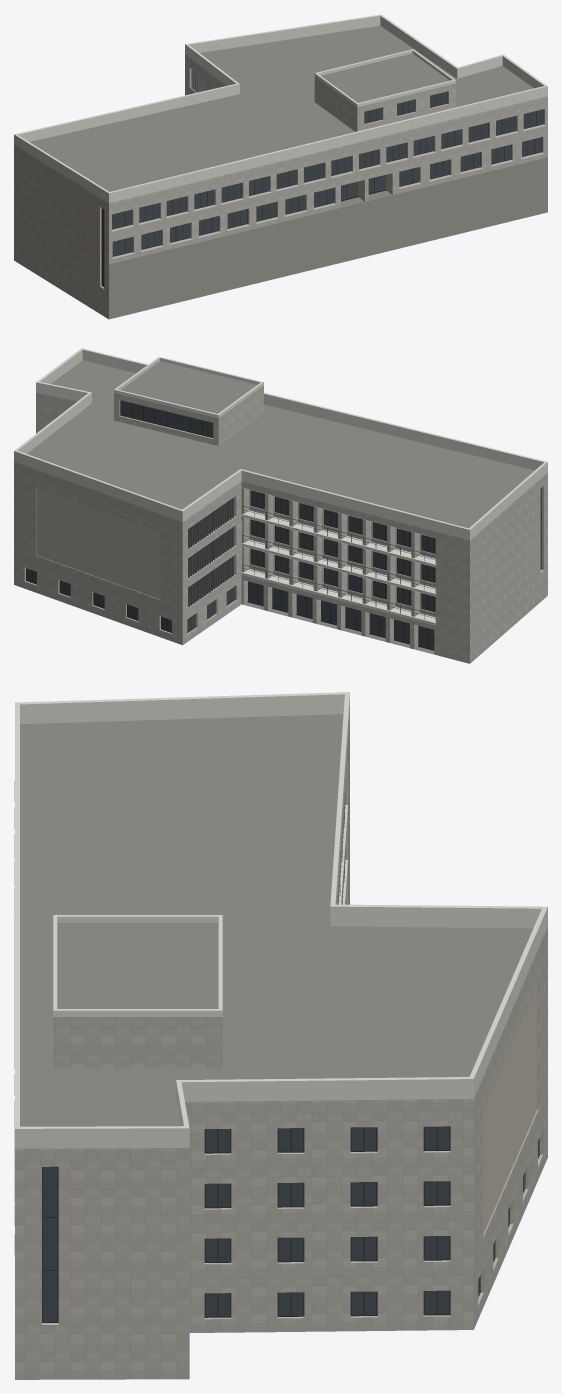
The picture shows the model from 3 angles, top to bottom: view 1: azimuth 30°, elevation 25°; view 2: azimuth 150°, elevation 25°; view 3: azimuth 270°, elevation 25°; orthographic projection. The views are drawn at different scales.
Visible parts, largest first — view 1: studentCenter__wall, studentCenter__roof, studentCenter__base, studentCenter__trim, studentCenter__glass, studentCenter__frame; view 2: studentCenter__wall, studentCenter__roof, studentCenter__trim, studentCenter__glass, studentCenter__relief, studentCenter__metal, studentCenter__frame; view 3: studentCenter__roof, studentCenter__wall, studentCenter__trim, studentCenter__glass, studentCenter__relief, studentCenter__frame.
Boxes of the visible parts, x1,y1,x2,y2 form: studentCenter__wall: (14,54,547,319); studentCenter__roof: (30,25,533,207); studentCenter__base: (109,157,547,319); studentCenter__trim: (14,14,547,259); studentCenter__glass: (102,91,543,286); studentCenter__frame: (101,91,543,286); studentCenter__wall: (14,385,547,663); studentCenter__roof: (27,360,534,654); studentCenter__trim: (14,348,547,625); studentCenter__glass: (26,400,541,649); studentCenter__relief: (36,487,160,599); studentCenter__metal: (188,497,436,619); studentCenter__frame: (26,400,541,650); studentCenter__roof: (20,714,533,1126); studentCenter__wall: (15,716,547,1379); studentCenter__trim: (14,692,547,1255); studentCenter__glass: (42,1126,539,1322); studentCenter__relief: (483,985,537,1234); studentCenter__frame: (42,1126,539,1322).
Bounding box in the file's own units: 61.59 × 19 × 31.82.
8 materials, 1 textured.
